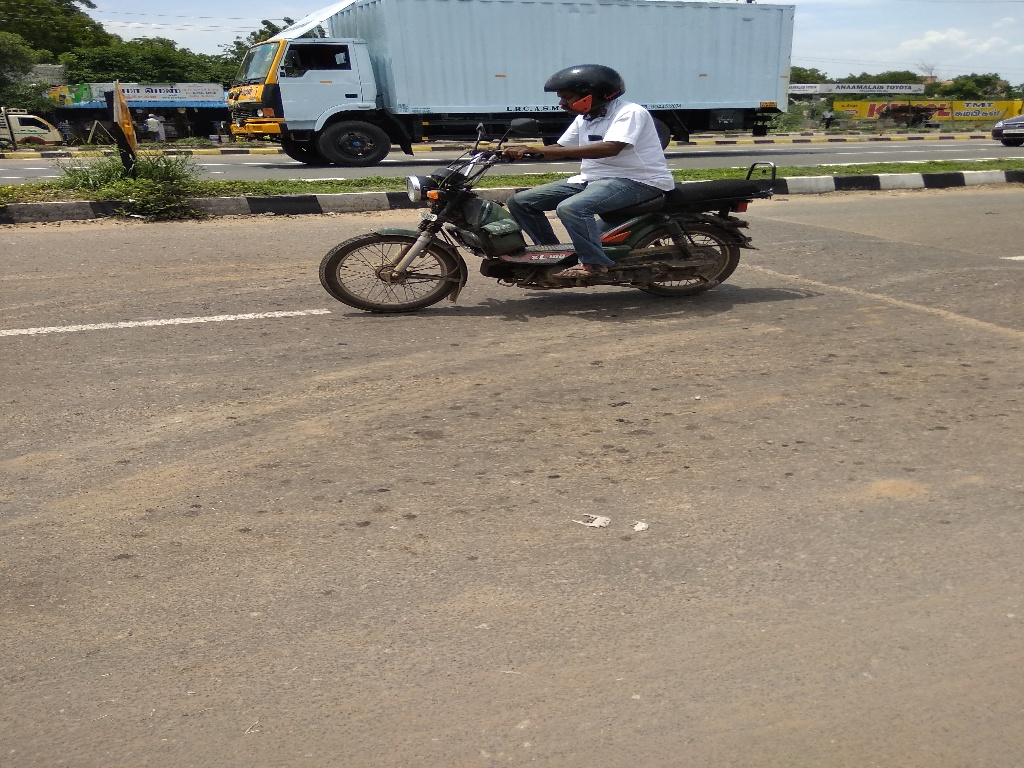biker: (307, 13, 808, 333)
helmet: (524, 41, 644, 132)
